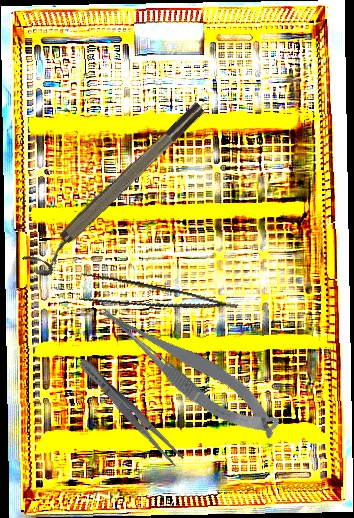Dressing Forceps: (74, 354, 187, 469)
Fixation Ring: (22, 98, 215, 282)
Micro Scissor: (92, 282, 287, 456)
Tissue Forceps: (73, 267, 238, 335)
